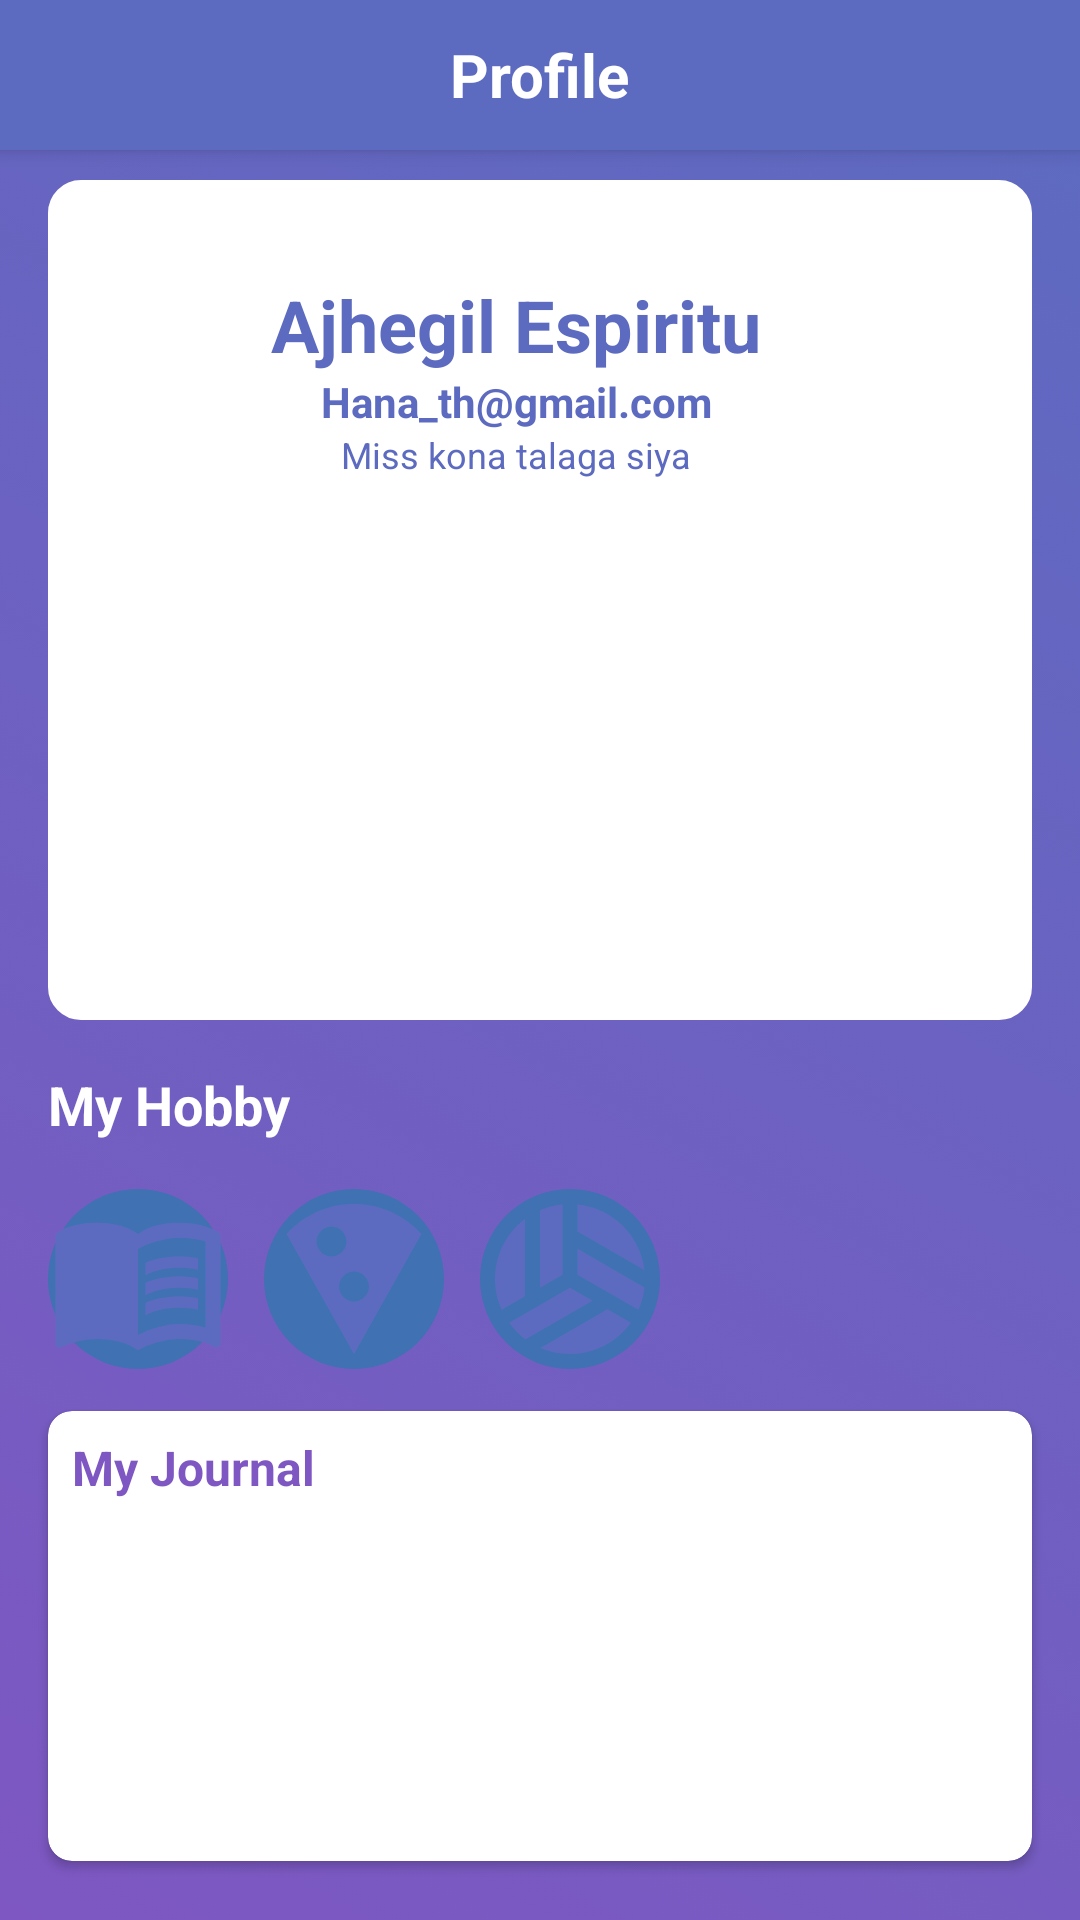

Point at icon controls on the screen. Image size 1080 x 1920, points as (x,y).
book: (138,1279)
local pizza: (354,1279)
sports volleyball: (570,1279)
